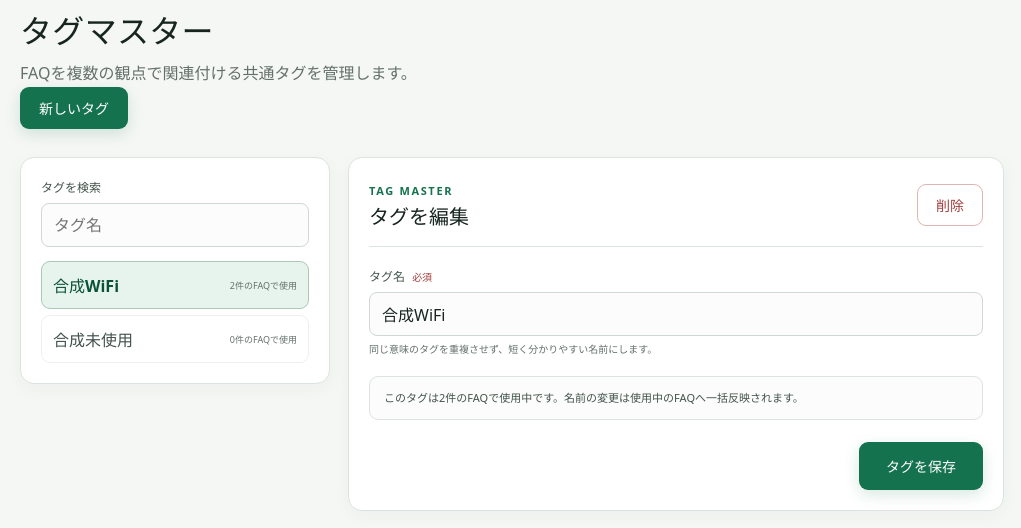
Test: TagsPage C# migration contracts › creates a tag with no existing ID
Click the button "新しいタグ" at (74, 108), box top-left (20, 87), bottom-right (128, 129)
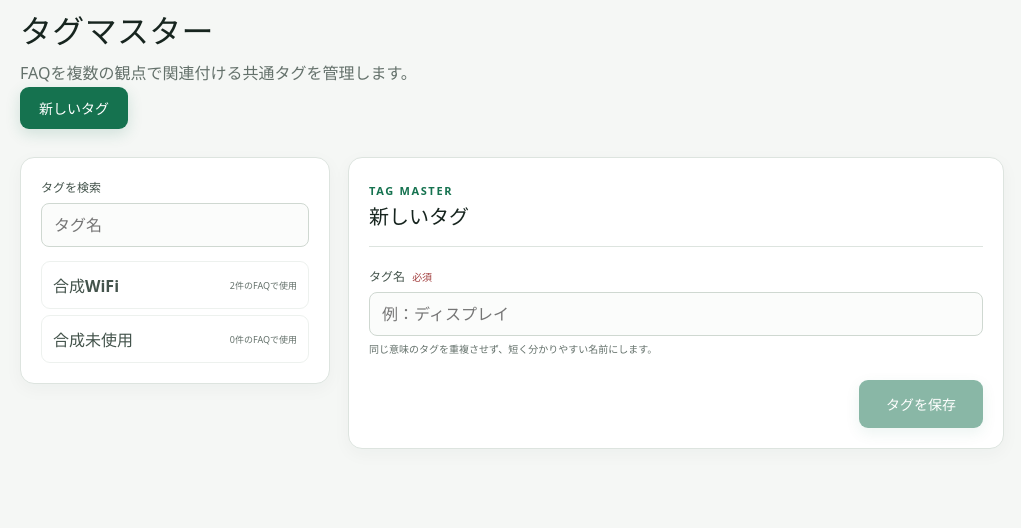
Type "合成追加" into the field labelled "タグ名 必須" at (676, 314), box top-left (369, 292), bottom-right (983, 336)
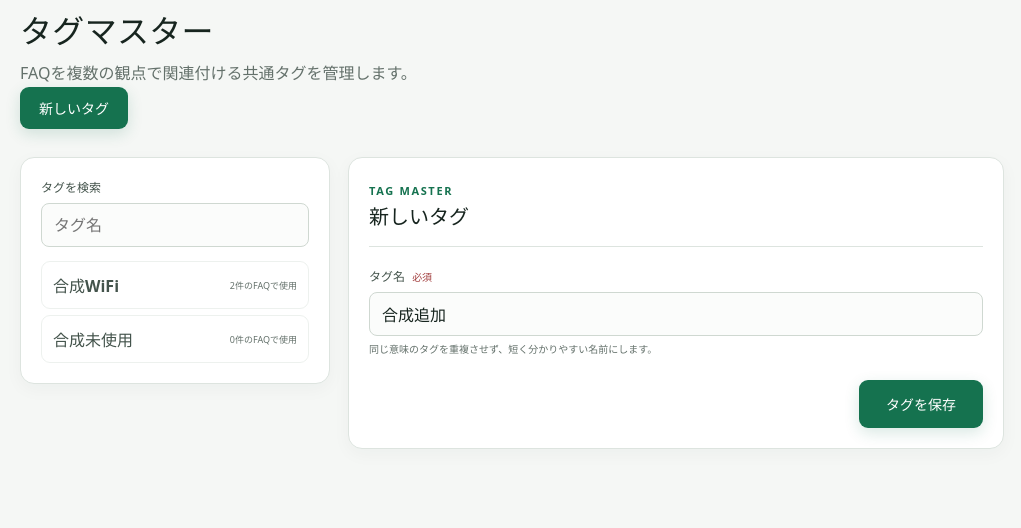
Click the button "タグを保存" at (921, 404), box top-left (859, 380), bottom-right (983, 428)
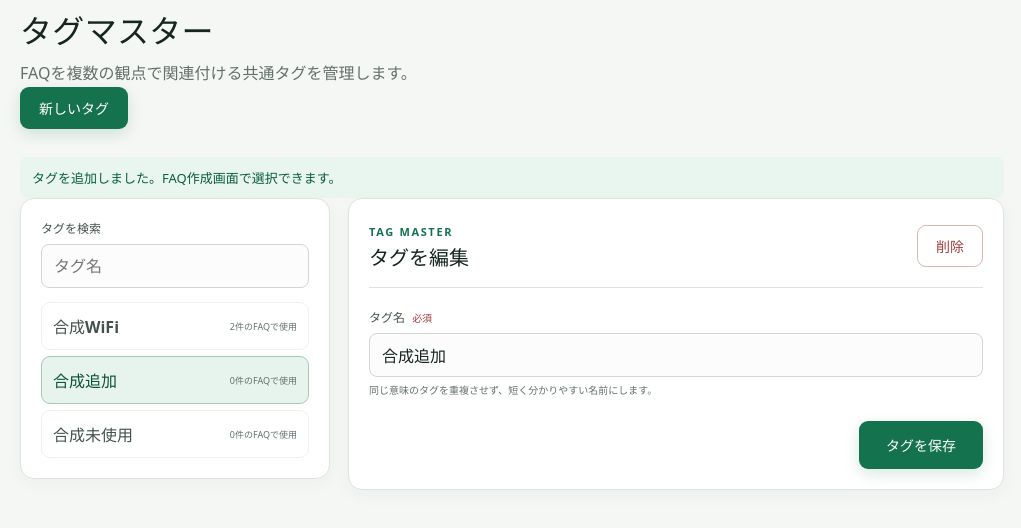
expect the message shows "タグを追加しました": met, box top-left (32, 169), bottom-right (341, 187)
expect the button "合成追加 0件のFAQで使用" is shown: met, box top-left (41, 356), bottom-right (309, 404)
